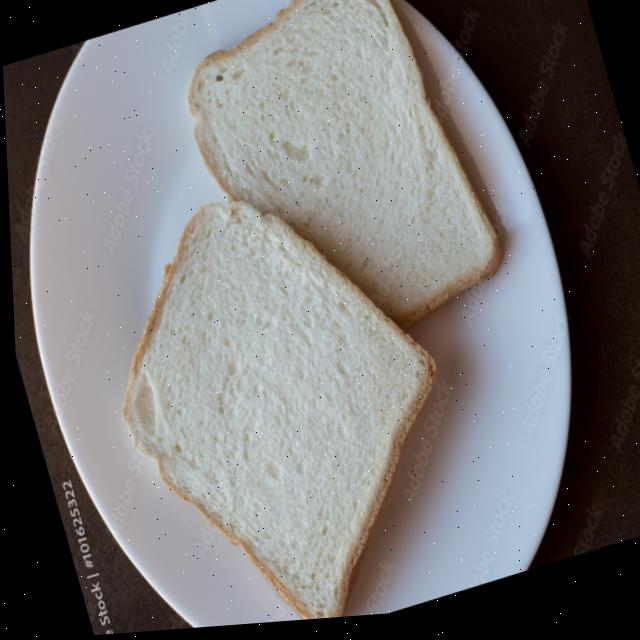Bread: (118, 205, 431, 624), (186, 0, 499, 332)
